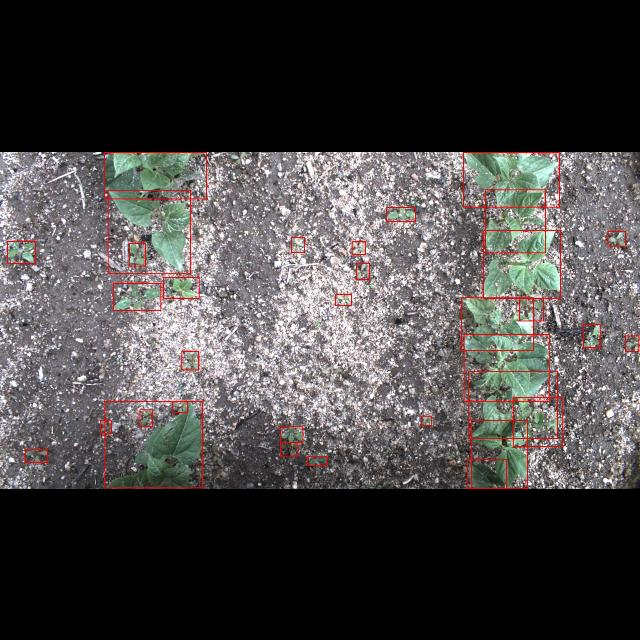crop: (105, 400, 202, 488), (108, 190, 190, 272), (468, 372, 558, 438), (464, 334, 548, 401), (463, 152, 559, 206), (484, 229, 560, 297), (104, 152, 206, 198), (471, 419, 527, 488), (485, 188, 545, 252), (461, 298, 533, 350), (468, 459, 507, 488)
weed: (513, 398, 563, 447), (114, 282, 160, 310), (164, 276, 198, 298), (7, 241, 35, 263), (518, 298, 544, 320), (386, 207, 416, 221), (280, 426, 304, 442), (584, 323, 600, 347), (129, 242, 145, 266), (182, 350, 198, 370), (24, 450, 48, 462), (608, 230, 626, 246), (280, 442, 298, 456), (356, 263, 369, 279), (140, 409, 152, 426), (307, 456, 327, 466), (172, 400, 188, 412), (626, 335, 638, 351), (292, 236, 304, 252), (352, 240, 366, 253), (335, 294, 351, 304), (100, 421, 112, 434), (422, 415, 432, 425)
